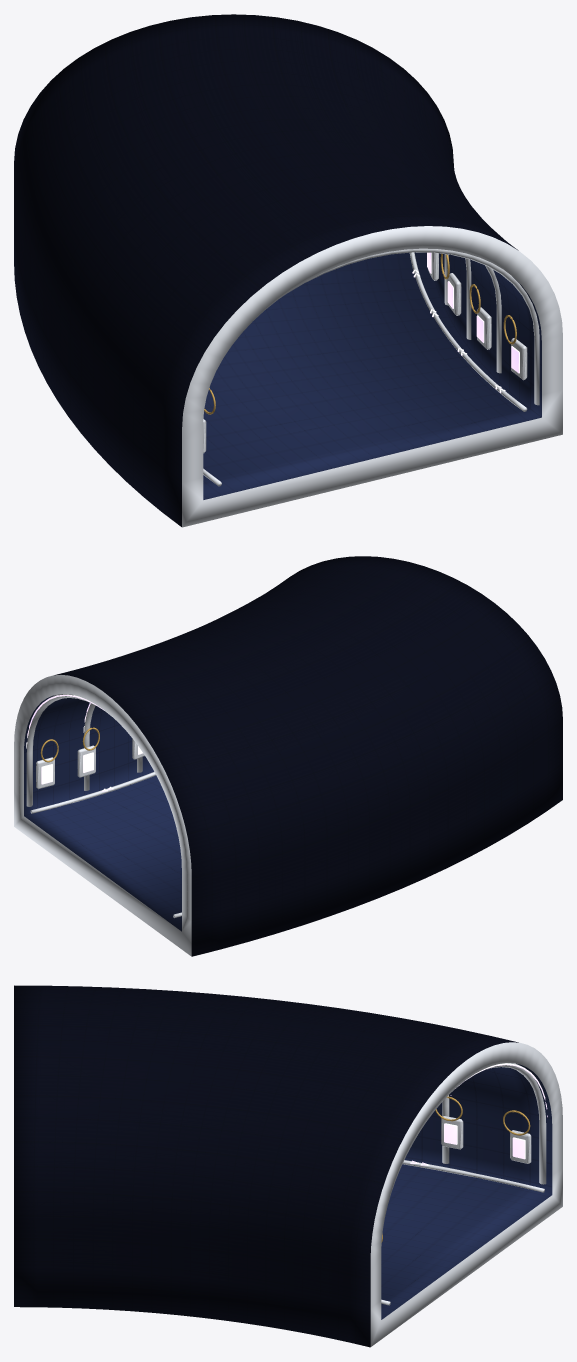
Rendered from curve_right_30_lod1.glb.
The picture shows the model from 3 angles, top to bottom: view 1: azimuth 30°, elevation 25°; view 2: azimuth 150°, elevation 25°; view 3: azimuth 270°, elevation 25°; orthographic projection. The views are drawn at different scales.
Parts seen in each view (by area): view 1: TunnelGeometry.001; view 2: TunnelGeometry.001; view 3: TunnelGeometry.001.
Part boxes in pixels (<box>): TunnelGeometry.001: <box>14,14,562,527</box>; TunnelGeometry.001: <box>14,556,562,956</box>; TunnelGeometry.001: <box>14,985,562,1347</box>.
Bounding box in the file's own units: 19.1 × 9.52 × 21.83.
Materials: 5 (2 with a texture image).
